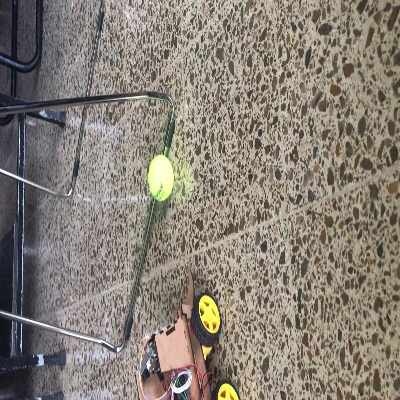Ball: (147, 154, 174, 201)
Robot: (134, 271, 240, 399)
